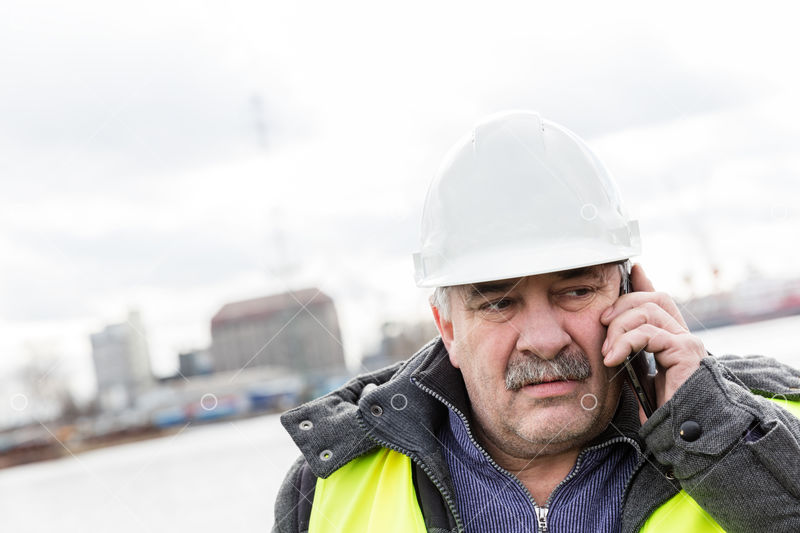Person_wearing_helmet: (405, 102, 672, 339)
